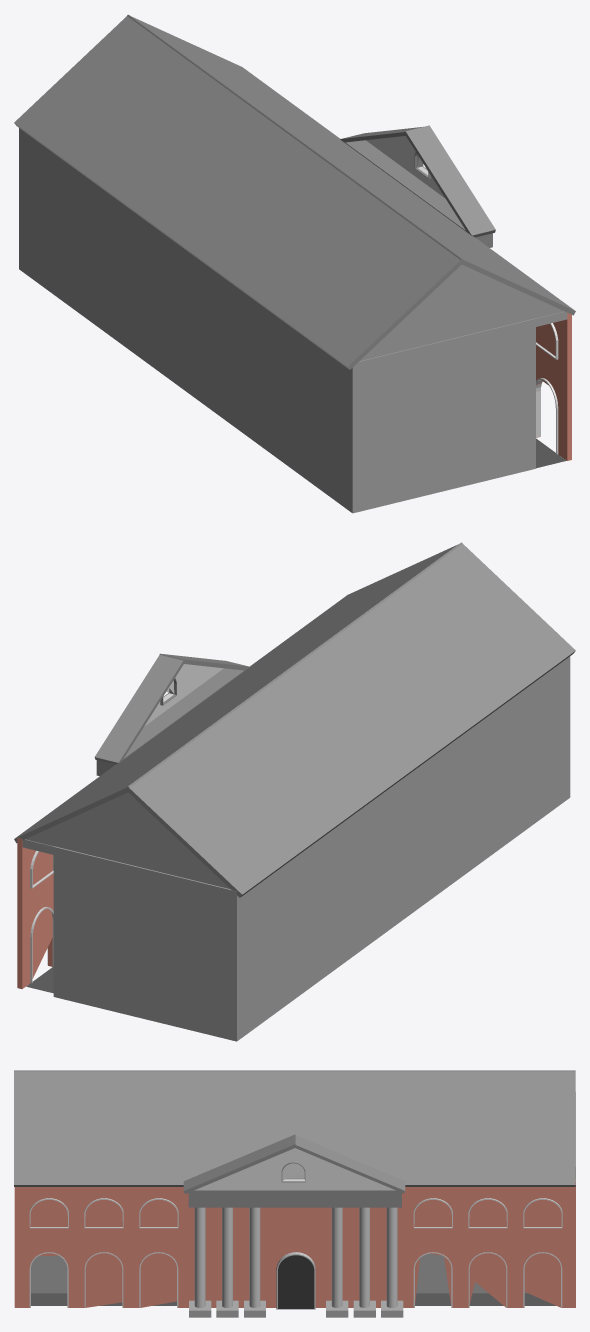
Rendered from 工設系.fbx.
3 renders of one model, top to bottom at view 1: azimuth 30°, elevation 25°; view 2: azimuth 150°, elevation 25°; view 3: azimuth 270°, elevation 25°, orthographic. The views are drawn at different scales.
Parts seen in each view (by area): view 1: 立方體, 立方體.014, 立方體.009, 立方體.001, 立方體.008, 立方體.010; view 2: 立方體, 立方體.014, 立方體.001, 立方體.009, 立方體.008, 立方體.010; view 3: 立方體.014, 立方體.001, 立方體.010, 立方體.008, 立方體.009, 立方體, Torus.006, 立方體.011, 圓柱體.006, 圓柱體.009, 圓柱體.011, 圓柱體.008 (+8 smaller).
Part boxes in pixels (x1=…): 立方體: x1=19, y1=128, x2=567, y2=513; 立方體.014: x1=14, y1=14, x2=575, y2=369; 立方體.009: x1=340, y1=125, x2=495, y2=237; 立方體.001: x1=536, y1=313, x2=571, y2=460; 立方體.008: x1=345, y1=140, x2=492, y2=247; 立方體.010: x1=366, y1=136, x2=445, y2=198; 立方體: x1=22, y1=656, x2=570, y2=1041; 立方體.014: x1=14, y1=542, x2=575, y2=897; 立方體.001: x1=17, y1=838, x2=53, y2=988; 立方體.009: x1=94, y1=653, x2=249, y2=764; 立方體.008: x1=96, y1=668, x2=246, y2=776; 立方體.010: x1=144, y1=664, x2=223, y2=726; 立方體.014: x1=14, y1=1070, x2=575, y2=1186; 立方體.001: x1=14, y1=1180, x2=575, y2=1307; 立方體.010: x1=196, y1=1148, x2=394, y2=1189; 立方體.008: x1=188, y1=1190, x2=401, y2=1207; 立方體.009: x1=183, y1=1134, x2=405, y2=1193; 立方體: x1=31, y1=1092, x2=575, y2=1293; Torus.006: x1=276, y1=1255, x2=314, y2=1309; 立方體.011: x1=31, y1=1293, x2=555, y2=1305; 圓柱體.006: x1=194, y1=1207, x2=205, y2=1307; 圓柱體.009: x1=331, y1=1207, x2=342, y2=1307; 圓柱體.011: x1=386, y1=1207, x2=397, y2=1307; 圓柱體.008: x1=249, y1=1207, x2=260, y2=1307.
Size of the model in its own units: 882 by 775 by 2049.
